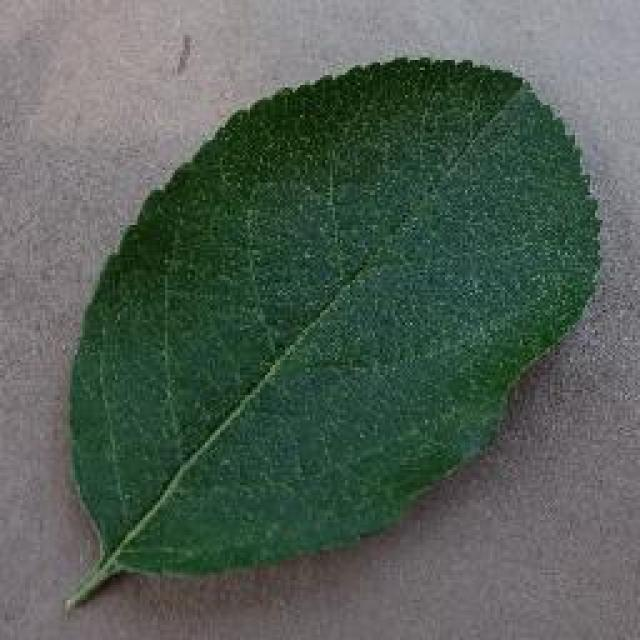Apple___healthy: (50, 32, 612, 632)
